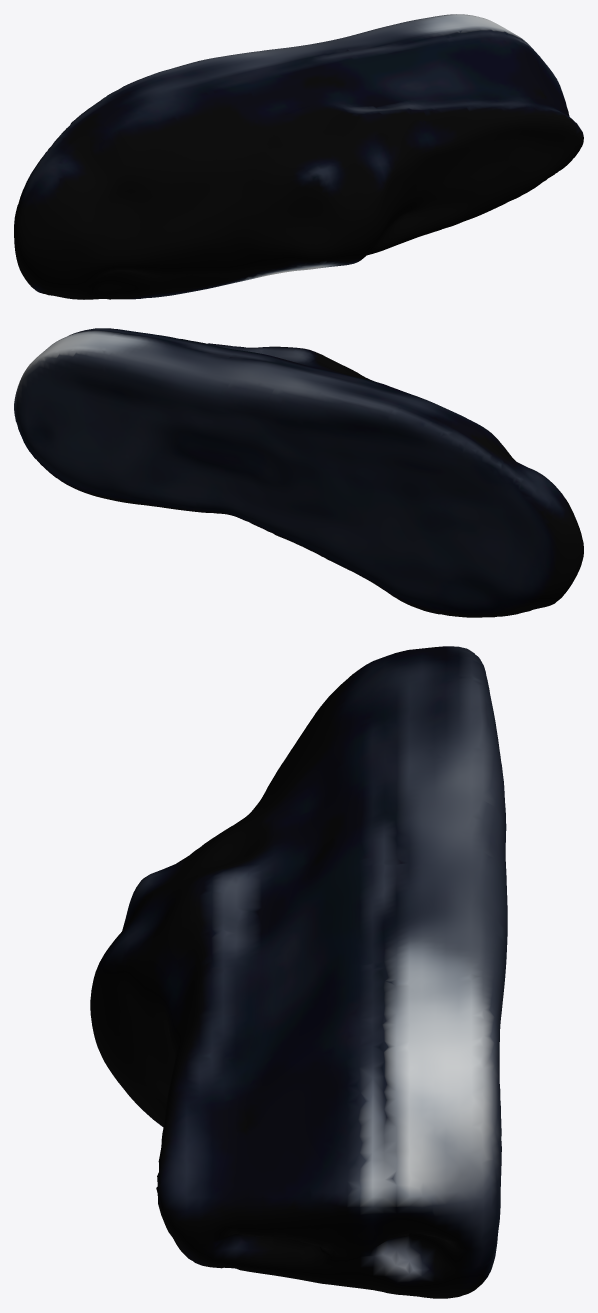
File: shoe.glb
The picture shows the model from 3 angles, top to bottom: view 1: azimuth 30°, elevation 25°; view 2: azimuth 150°, elevation 25°; view 3: azimuth 270°, elevation 25°; orthographic projection. The views are drawn at different scales.
Bounding box in the file's own units: 0.9993 × 0.3671 × 0.3382.
